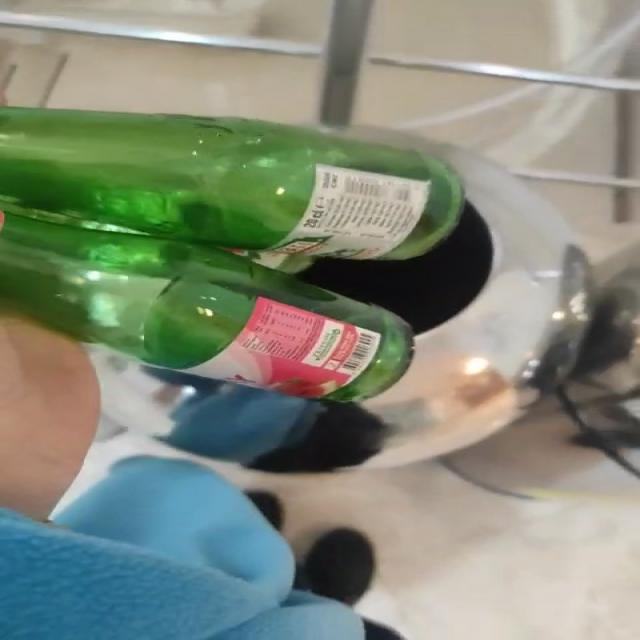glass: (0, 108, 465, 401)
